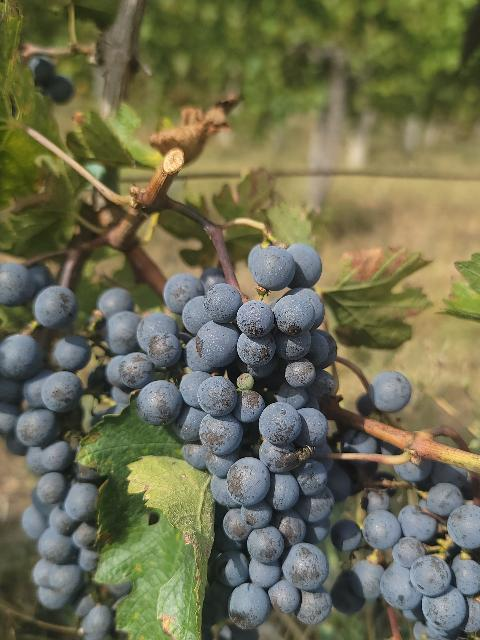grapes: (138, 284, 351, 630), (0, 264, 130, 640), (349, 484, 480, 640)
